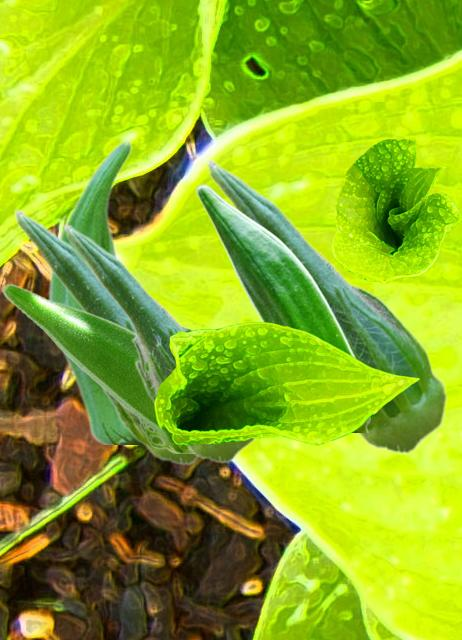okra: (205, 158, 447, 453), (13, 208, 198, 464), (63, 223, 256, 462), (195, 184, 369, 431), (1, 283, 190, 452), (47, 139, 138, 443)
